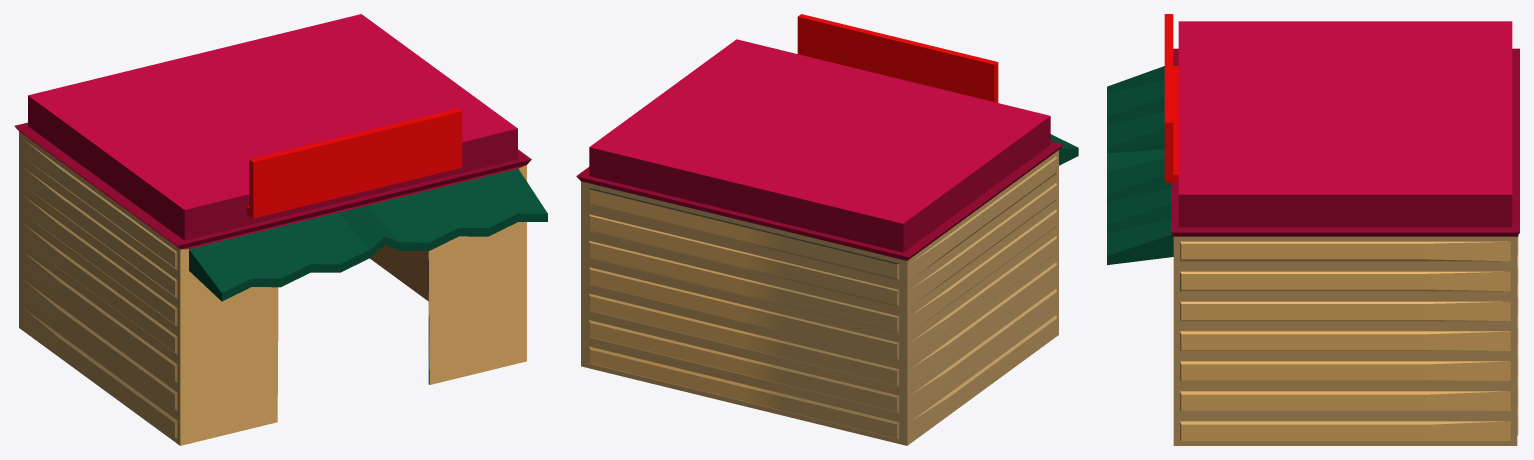
Rendered from lab.glb.
3 renders of one model, left to right at view 1: azimuth 30°, elevation 25°; view 2: azimuth 150°, elevation 25°; view 3: azimuth 270°, elevation 25°, orthographic. The views are drawn at different scales.
Visible parts, largest first — view 1: Cube.001; view 2: Cube.001; view 3: Cube.001.
Boxes of the visible parts, bbox=[...] form: Cube.001: bbox=[14, 14, 547, 445]; Cube.001: bbox=[576, 14, 1078, 445]; Cube.001: bbox=[1107, 14, 1519, 445].
Size of the model in its own units: 10.39 by 7.57 by 9.85.
Materials: 1 (1 with a texture image).
